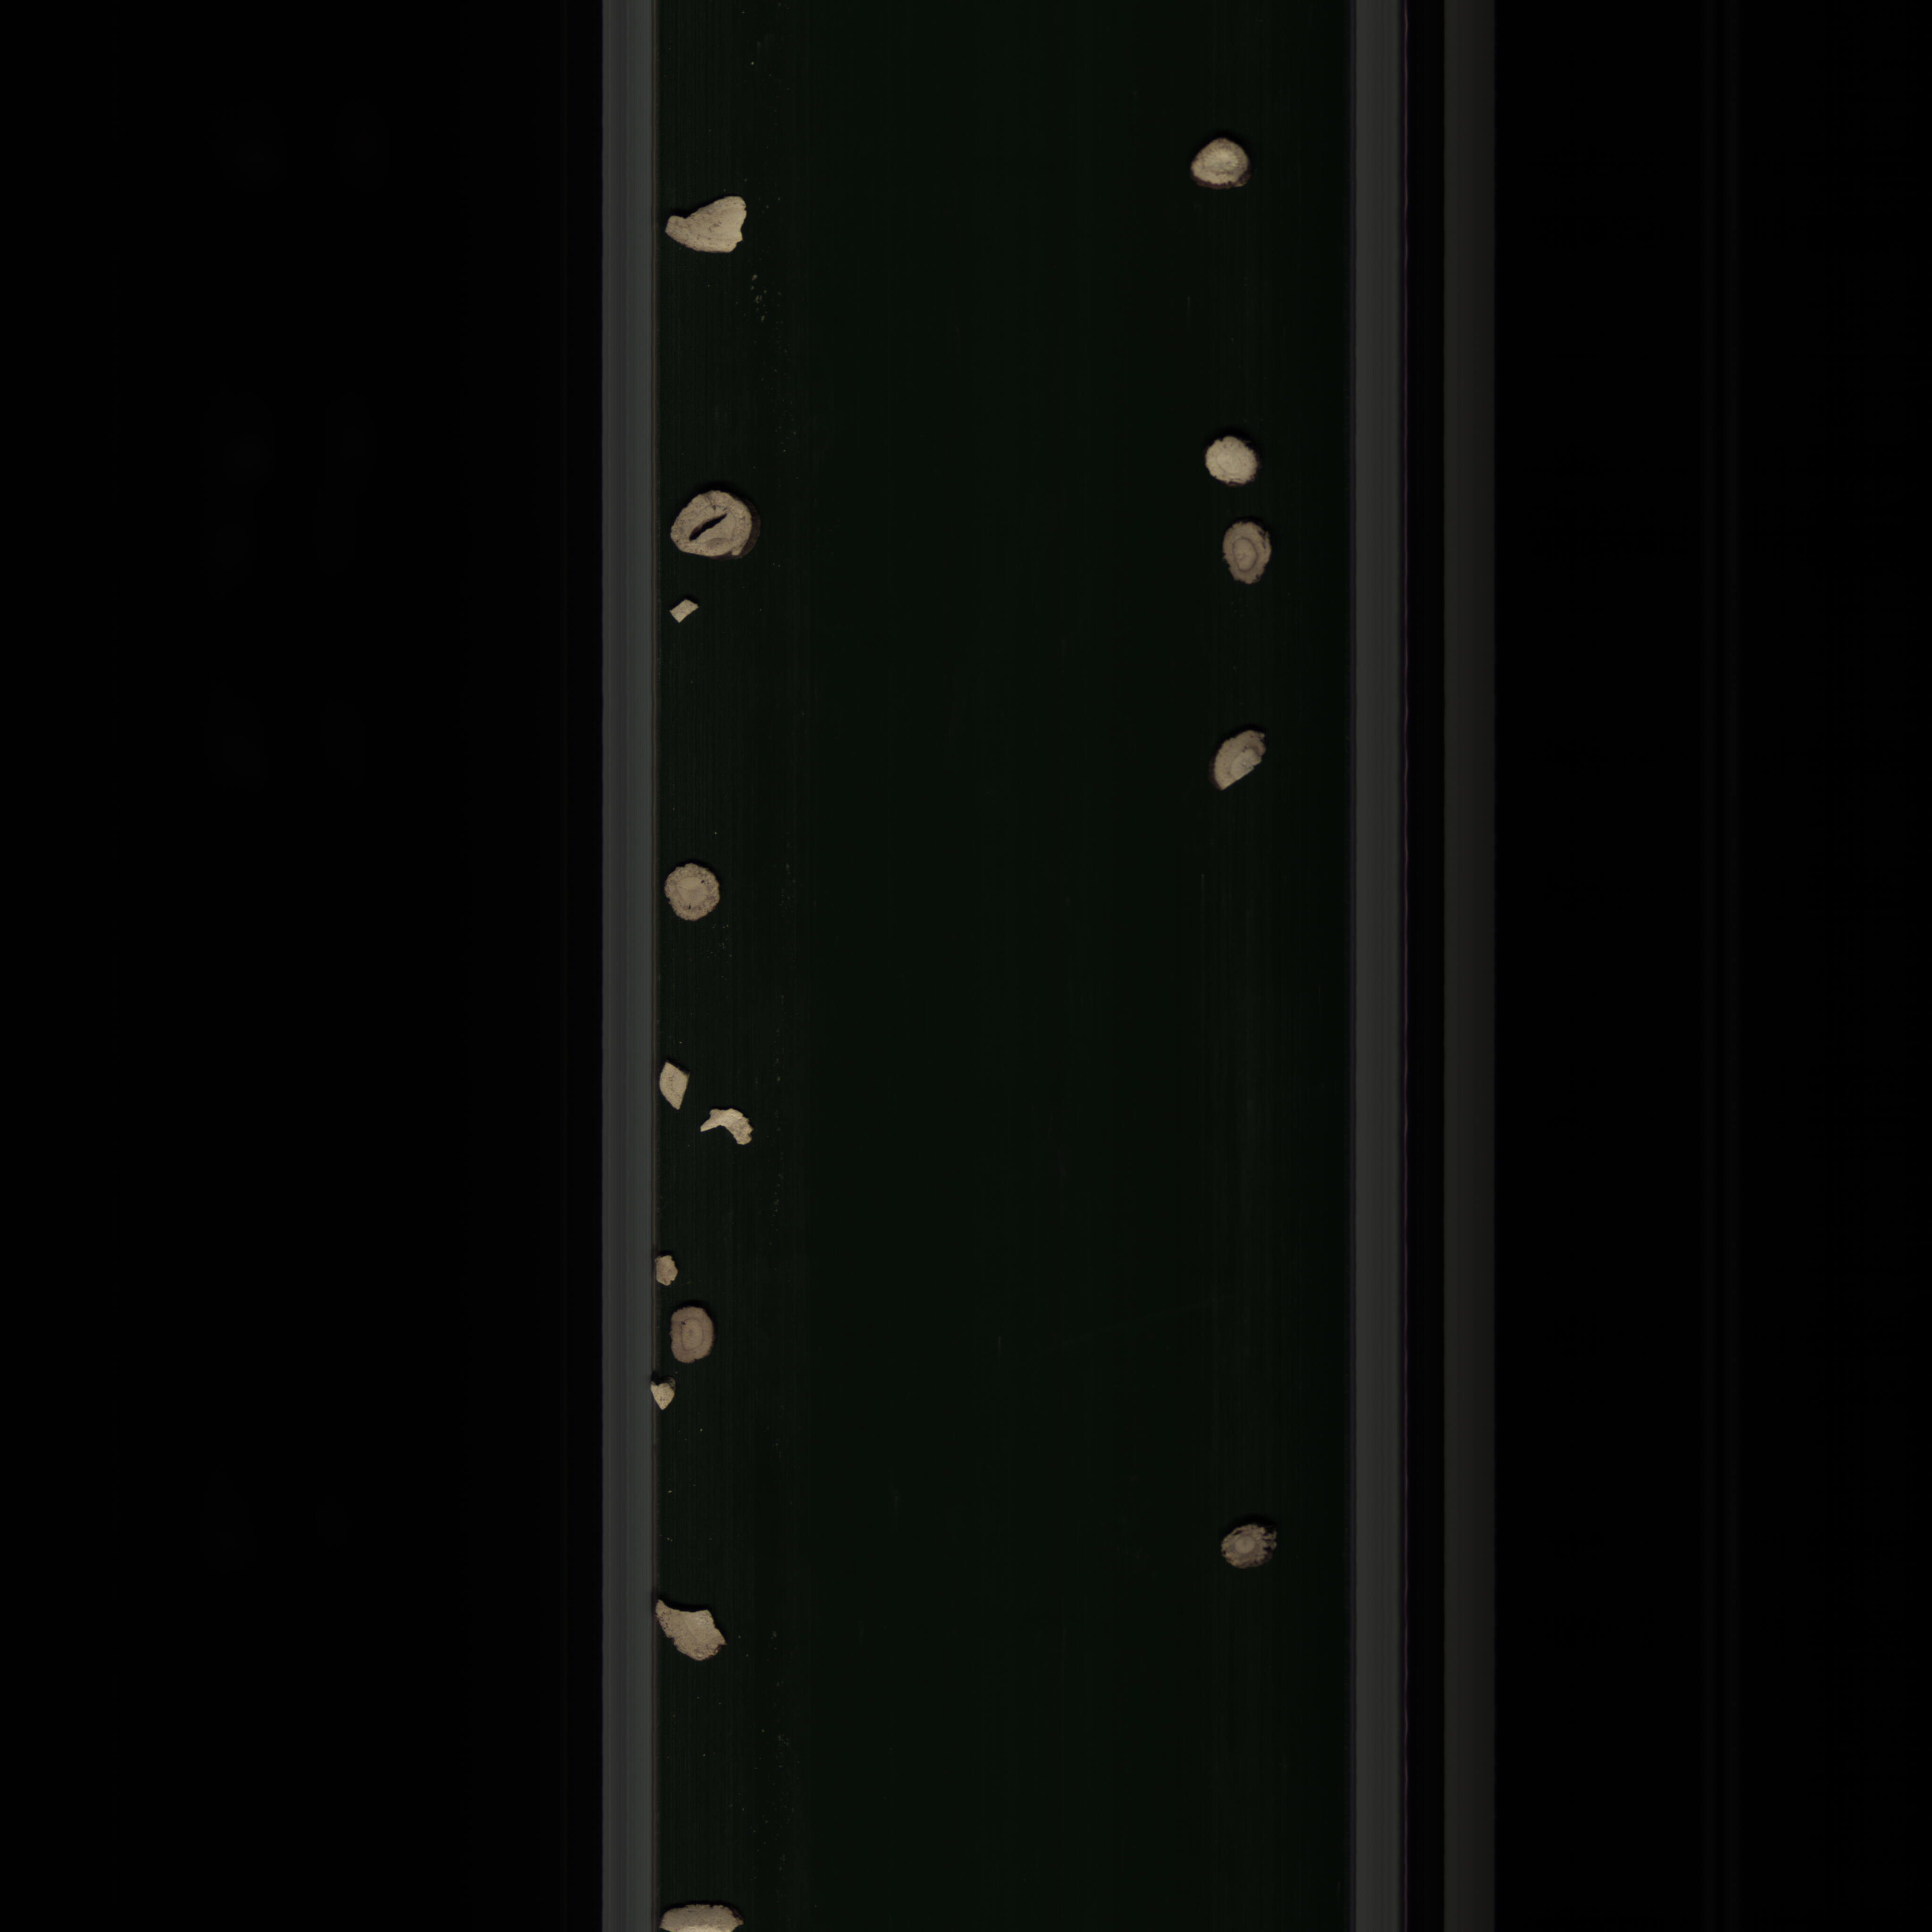debris: (660, 184, 757, 262), (637, 1594, 725, 1677), (1207, 720, 1283, 798), (699, 1104, 770, 1154), (646, 1058, 697, 1113), (648, 1244, 690, 1293), (648, 1373, 683, 1415), (667, 591, 706, 626)
hole: (671, 490, 761, 570)
moldy: (1215, 1520, 1299, 1582), (1177, 138, 1263, 193), (1223, 515, 1277, 596)
